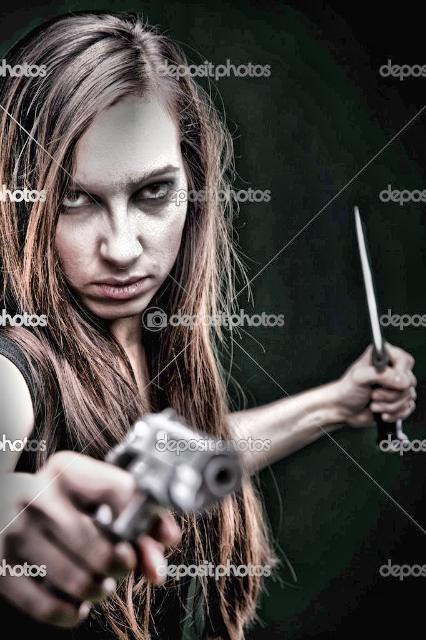pistol: (57, 408, 250, 608)
